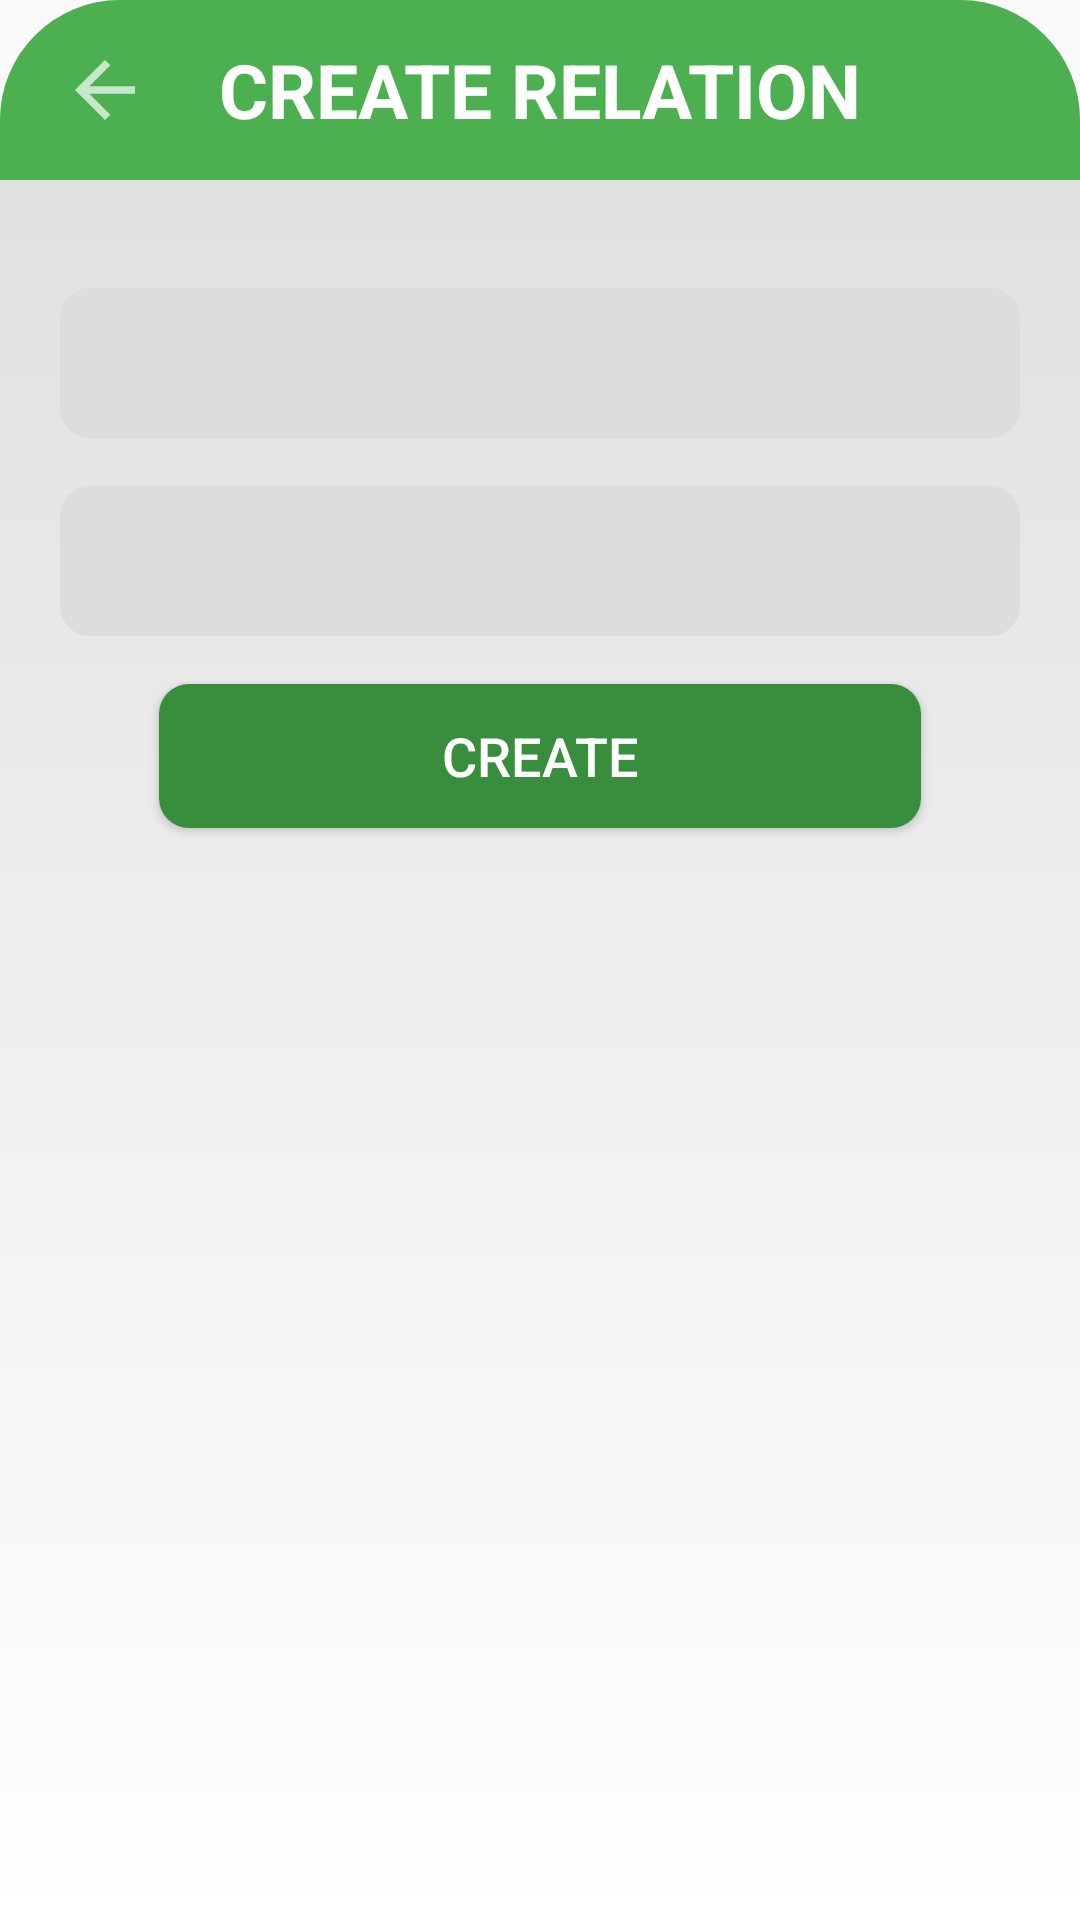

Named icons in this screenshot (1080 x 1920) and their centers, point (x, y):
arrow back: point (105, 90)
